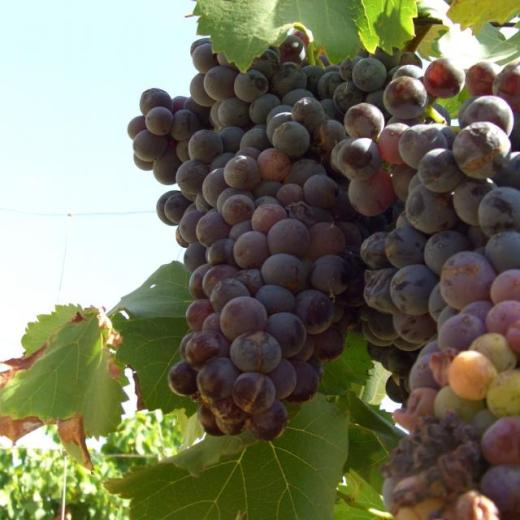Orange: (124, 28, 520, 520)
